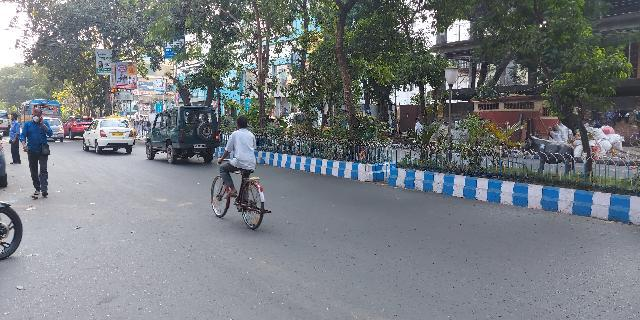Car: (143, 103, 221, 166), (79, 113, 138, 158)
Cycle: (207, 113, 271, 233)
